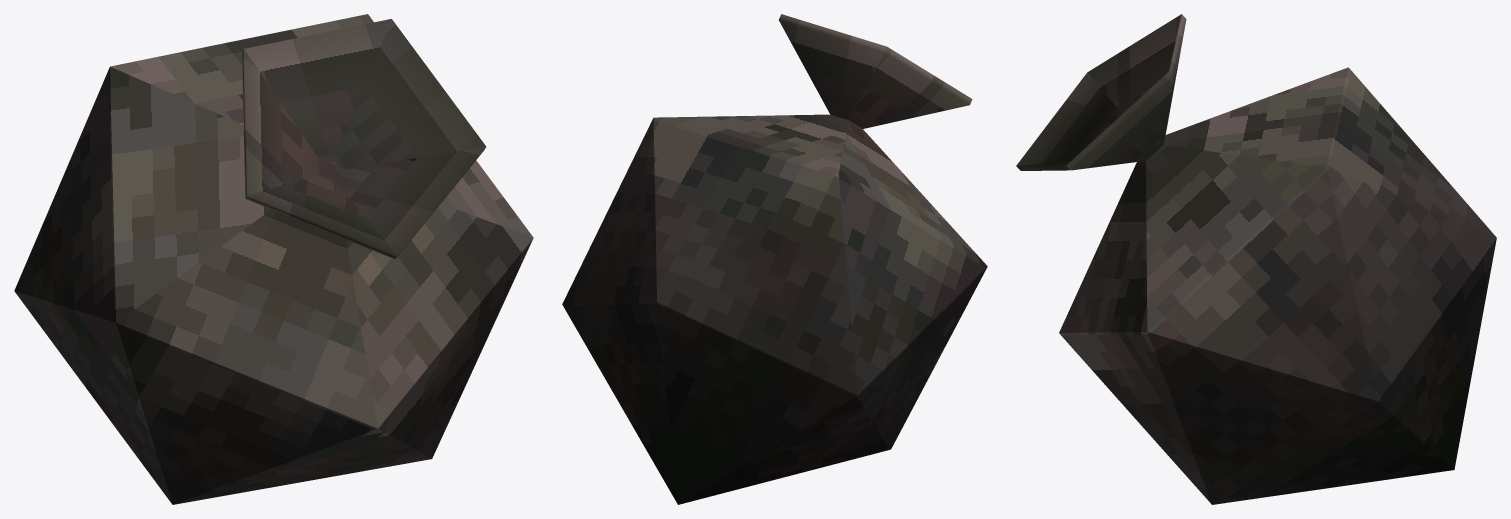
File: prop_trash_bag.glb
The picture shows the model from 3 angles, left to right: view 1: azimuth 30°, elevation 25°; view 2: azimuth 150°, elevation 25°; view 3: azimuth 270°, elevation 25°; orthographic projection. The views are drawn at different scales.
Parts seen in each view (by area): view 1: Trashbag; view 2: Trashbag; view 3: Trashbag.
Part boxes in pixels (x1,y1,x2,y2): Trashbag: [14, 14, 533, 504]; Trashbag: [562, 14, 987, 504]; Trashbag: [1016, 14, 1496, 504].
Size of the model in its own units: 0.5787 by 0.638 by 0.6712.
1 material, 1 textured.
